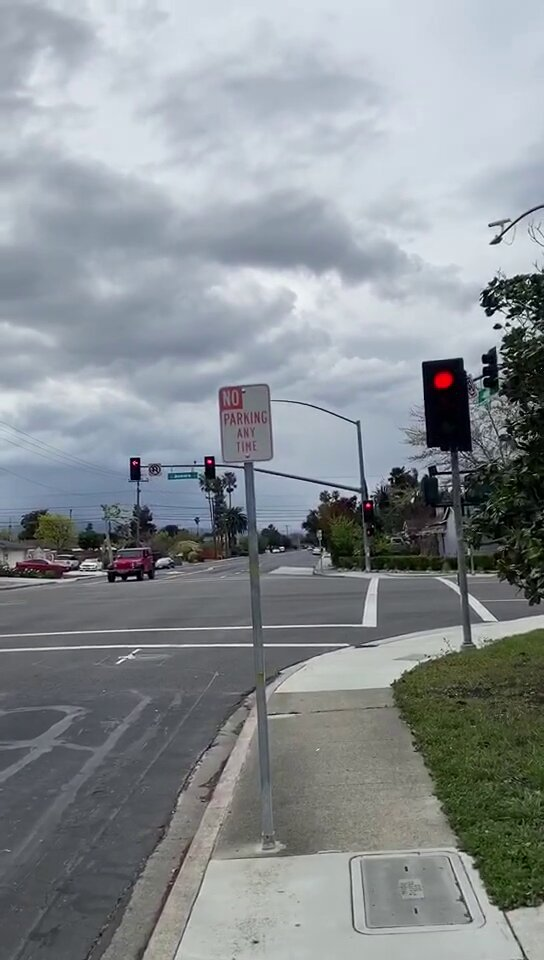red_light: (425, 359, 466, 447), (204, 455, 216, 481), (364, 499, 375, 524), (130, 456, 140, 479)
